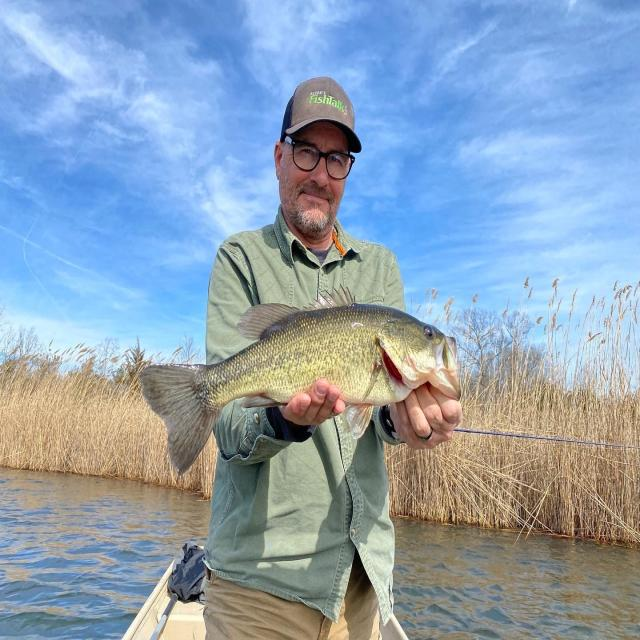Bass - Largemouth: (140, 287, 460, 473)
